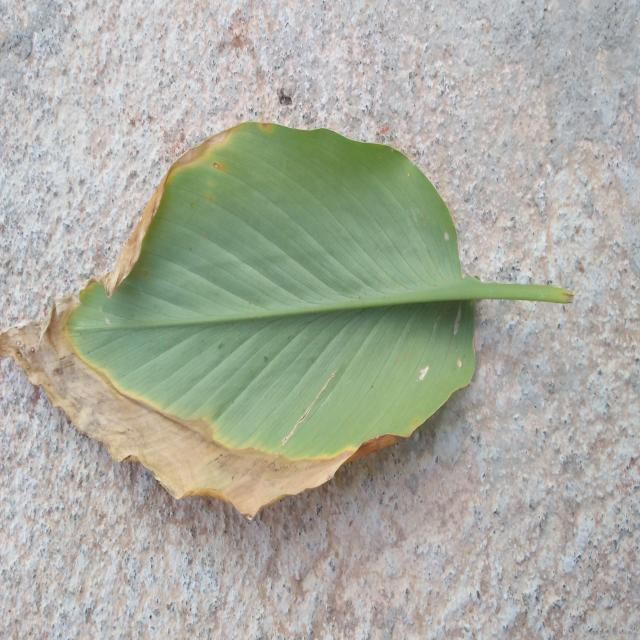leaf blotch: (0, 122, 574, 518)
